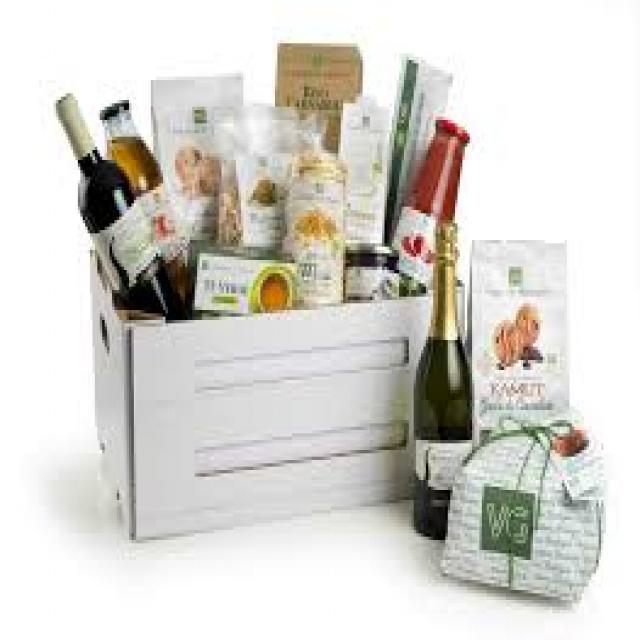Bread loaf: (278, 126, 374, 343)
Liquor: (404, 223, 472, 543)
